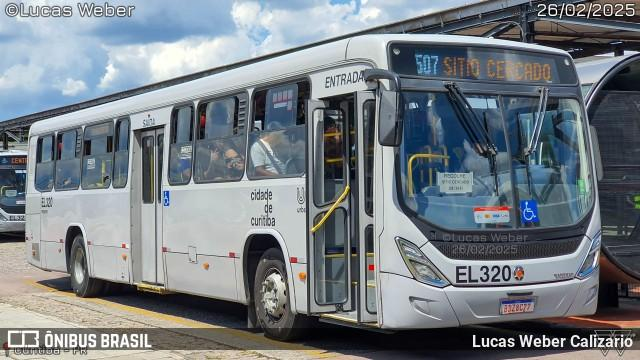SITIO CERCADO: (439, 51, 554, 84)
